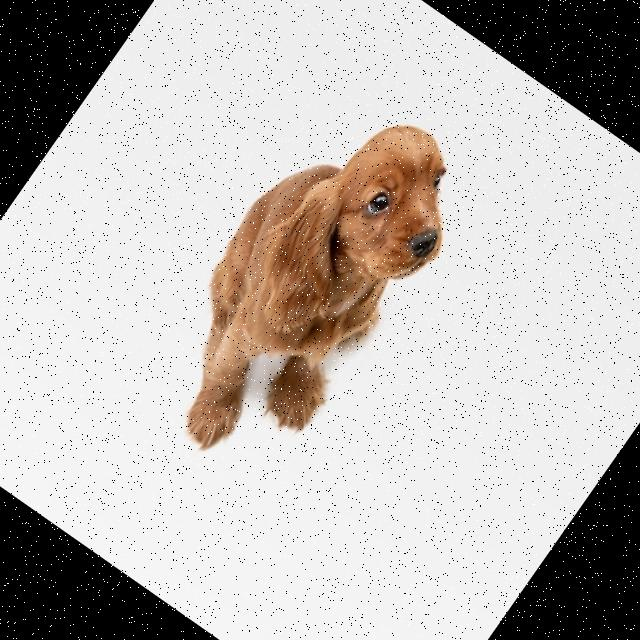Dog: (122, 74, 491, 494)
